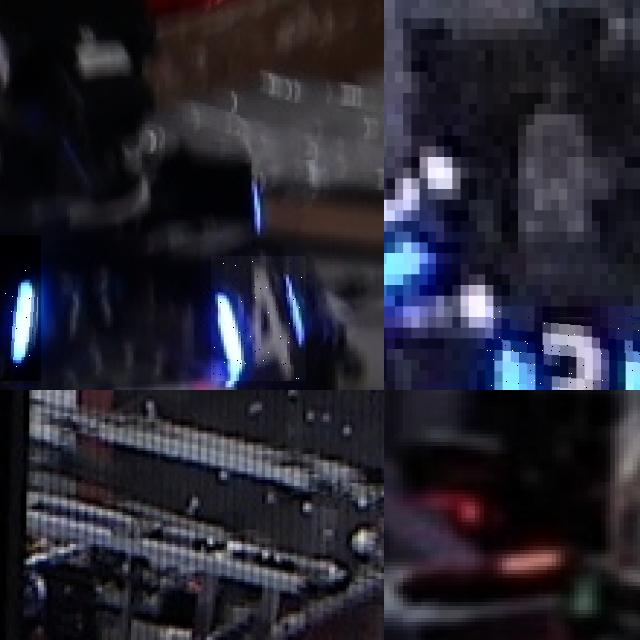B3: (485, 306, 640, 390)
B4: (211, 256, 306, 381)
